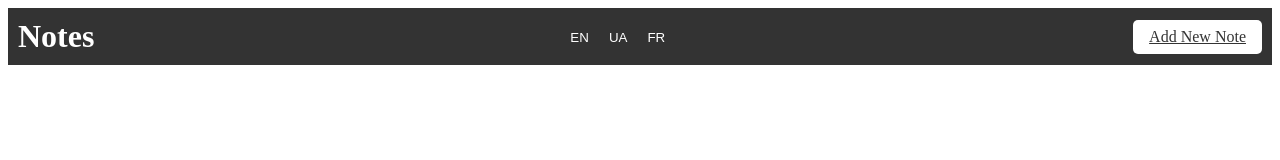
it: Notes App › should change language to Ukrainian
Click the button "UA" at (619, 38), box [603, 29, 634, 46]
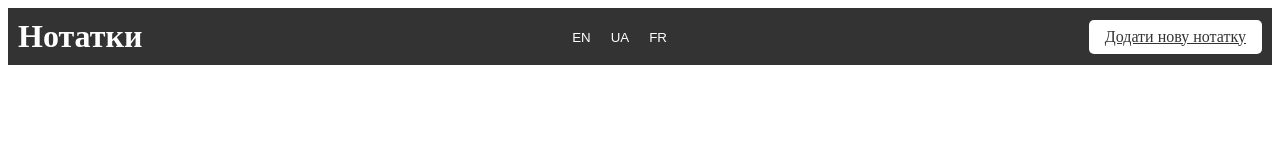
Now the heading "Нотатки" is shown, box [18, 18, 142, 55]
